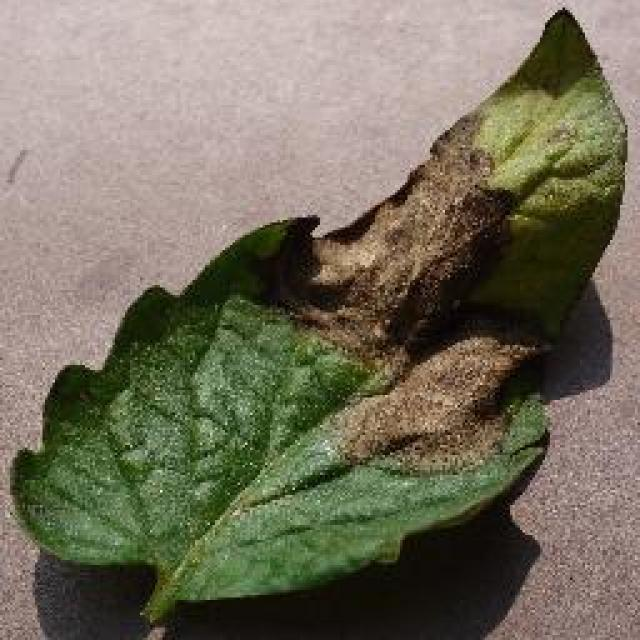Tomato late blight leaf: (10, 5, 632, 602)
